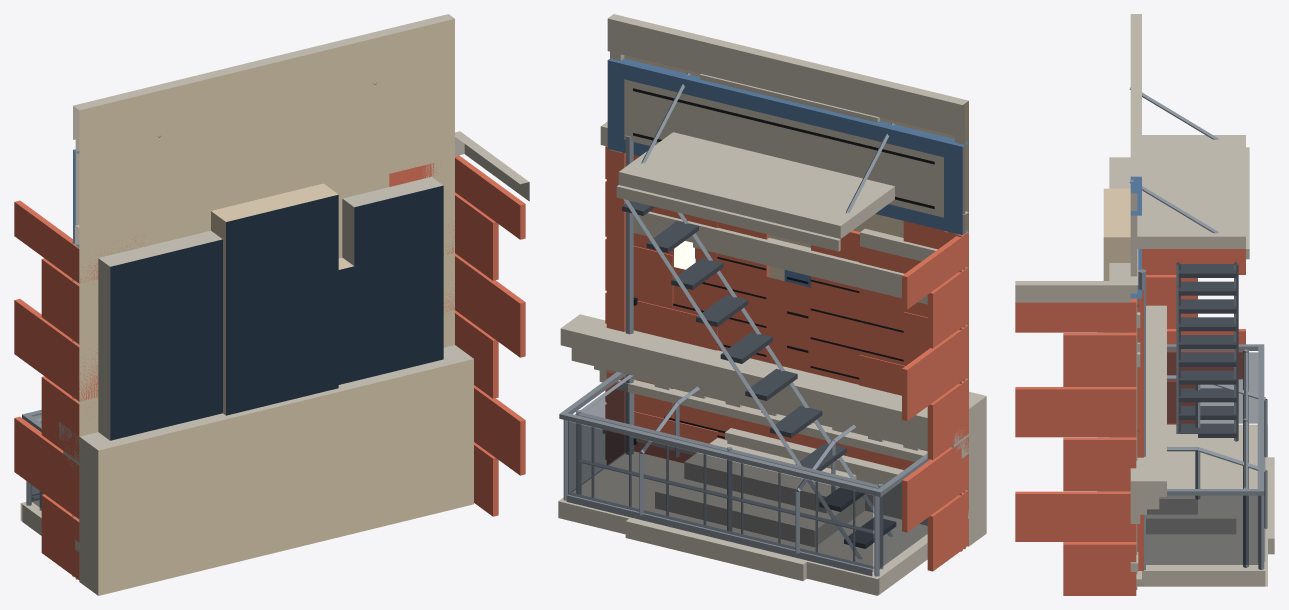
Rendered from kit_apartment.glb.
3 views of the same model, side by side, from view 1: azimuth 30°, elevation 25°; view 2: azimuth 150°, elevation 25°; view 3: azimuth 270°, elevation 25° (orthographic). The views are drawn at different scales.
Visible parts, largest first — view 1: Apt_Bay_Door_Stoop, Apt_Cornice, Apt_Bay_Shop_Ground, Apt_Corner_Out, Apt_Corner_In, Apt_Bay_Balcony, Apt_Bay_Window, Apt_Bay_Solid; view 2: Apt_Bay_Shop_Ground, Apt_Bay_Door_Stoop, Apt_Bay_Balcony, Apt_Corner_In, Apt_Cornice, Apt_FireEscape_Bay, Apt_Bay_Solid, Apt_Corner_Out, Apt_Bay_Window, Apt_Cornice_Corner; view 3: Apt_Corner_Out, Apt_Bay_Door_Stoop, Apt_Bay_Balcony, Apt_FireEscape_Bay, Apt_Corner_In, Apt_Bay_Shop_Ground, Apt_Cornice, Apt_Cornice_Corner, Apt_Bay_Solid.
Boxes of the visible parts, x1,y1,x2,y2 form: Apt_Bay_Door_Stoop: (73,15,454,579); Apt_Cornice: (59,345,473,595); Apt_Bay_Shop_Ground: (72,14,454,576); Apt_Corner_Out: (75,131,529,516); Apt_Corner_In: (14,200,454,579); Apt_Bay_Balcony: (20,137,454,578); Apt_Bay_Window: (81,137,454,420); Apt_Bay_Solid: (81,137,454,428); Apt_Bay_Shop_Ground: (606,14,968,551); Apt_Bay_Door_Stoop: (610,14,968,580); Apt_Bay_Balcony: (558,149,968,595); Apt_Corner_In: (621,211,968,571); Apt_Cornice: (594,327,986,546); Apt_FireEscape_Bay: (576,199,927,569); Apt_Bay_Solid: (625,135,968,469); Apt_Corner_Out: (600,121,968,462); Apt_Bay_Window: (634,213,967,466); Apt_Cornice_Corner: (560,314,606,433); Apt_Corner_Out: (1015,281,1138,595); Apt_Bay_Door_Stoop: (1103,14,1274,579); Apt_Bay_Balcony: (1130,249,1267,589); Apt_FireEscape_Bay: (1112,261,1248,567); Apt_Corner_In: (1137,249,1245,424); Apt_Bay_Shop_Ground: (1109,14,1143,586); Apt_Cornice: (1097,305,1166,559); Apt_Cornice_Corner: (1130,466,1166,571); Apt_Bay_Solid: (1137,269,1145,570).
Bounding box in the file's own units: 4.38 × 4.8 × 2.7.
